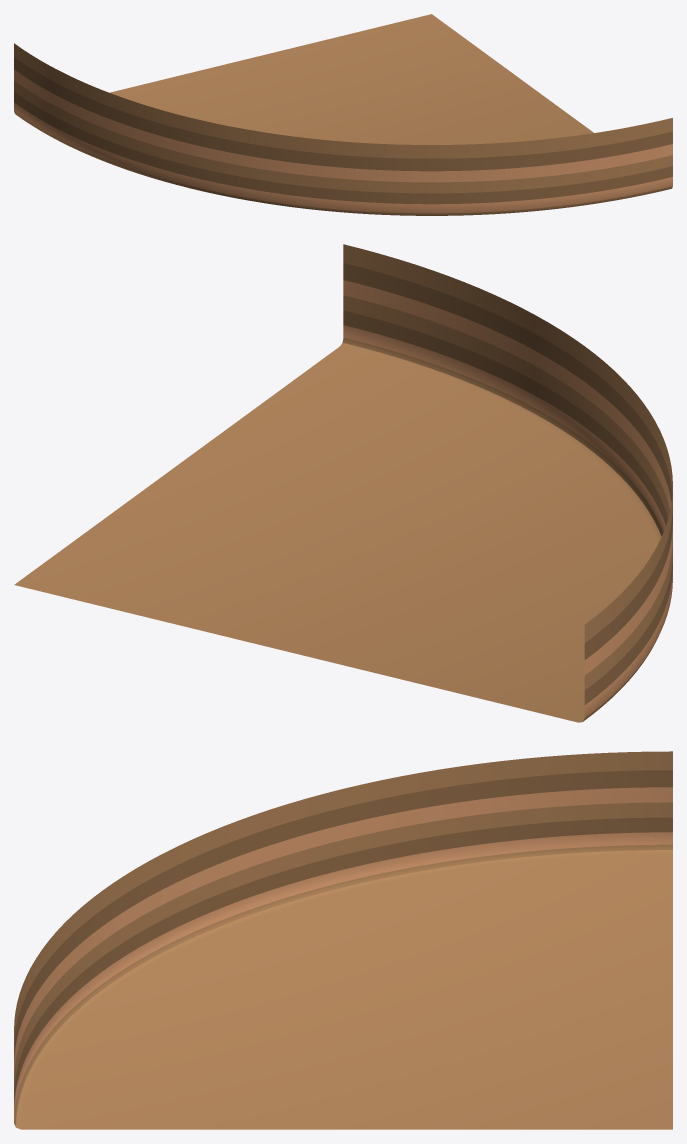
Rendered from platform_grass_corner_round6_bottom_tall.gltf.
3 renders of one model, top to bottom at view 1: azimuth 30°, elevation 25°; view 2: azimuth 150°, elevation 25°; view 3: azimuth 270°, elevation 25°, orthographic. The views are drawn at different scales.
Parts seen in each view (by area): view 1: Cube_Grass_Corner_Round6Bottom_Tall; view 2: Cube_Grass_Corner_Round6Bottom_Tall; view 3: Cube_Grass_Corner_Round6Bottom_Tall.
Boxes of the visible parts, <box> form: Cube_Grass_Corner_Round6Bottom_Tall: <box>14,14,672,215</box>; Cube_Grass_Corner_Round6Bottom_Tall: <box>14,244,672,722</box>; Cube_Grass_Corner_Round6Bottom_Tall: <box>14,751,672,1129</box>.
Bounding box in the file's own units: 12 × 2 × 12.
